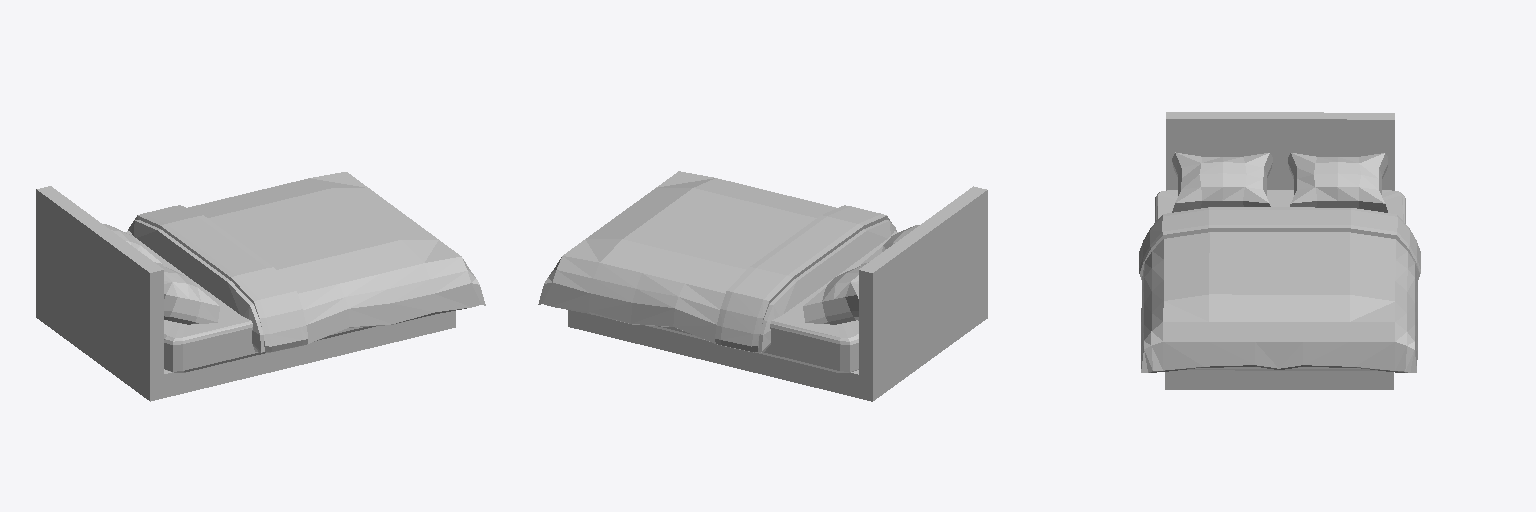
Rendered from Room_301_0_3.obj.
The picture shows the model from 3 angles: view 1: azimuth 30°, elevation 25°; view 2: azimuth 150°, elevation 25°; view 3: azimuth 270°, elevation 25°; orthographic projection.
Parts seen in each view (by area): view 1: Bed; view 2: Bed; view 3: Bed.
Boxes of the visible parts, x1=… form: Bed: x1=36, y1=172, x2=485, y2=401; Bed: x1=538, y1=171, x2=987, y2=401; Bed: x1=1139, y1=112, x2=1420, y2=389.
Size of the model in its own units: 4.18 by 1.57 by 3.14.